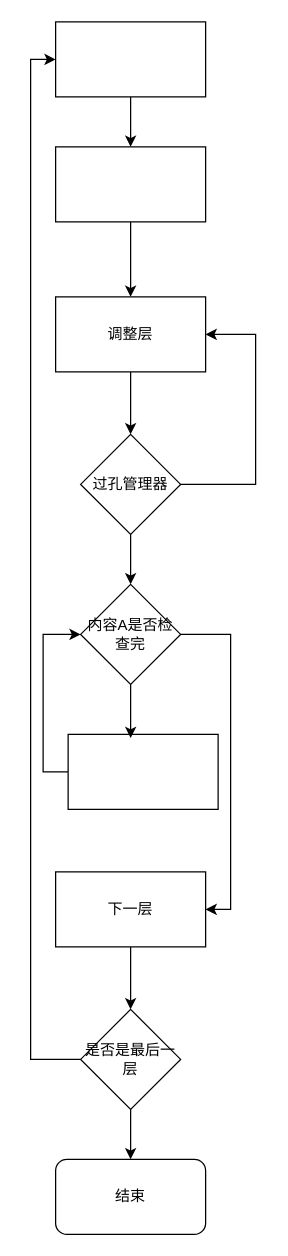
Some shapes in this 288 by 1256 pixel diagram are drawn without their labels. The centre of each missing label's shape, as x and y in pixels:
删除: pixel 142 771
拿出一层: pixel 130 59
获取移除内容A: pixel 130 184
